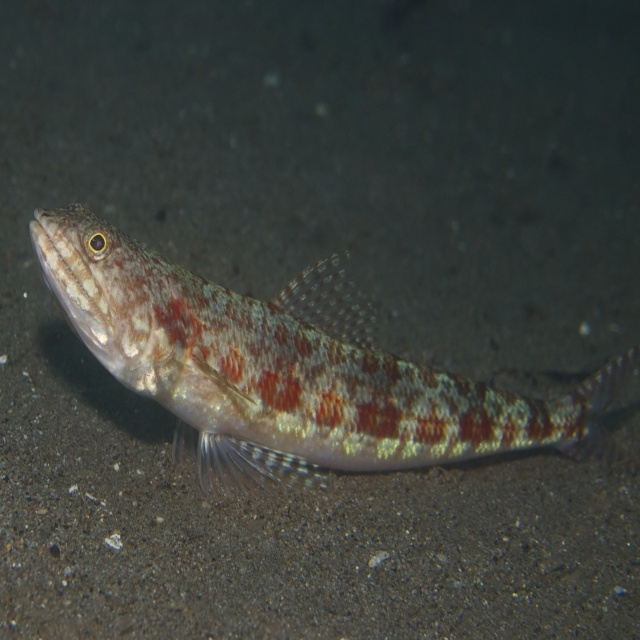Fish: (44, 212, 621, 496)
